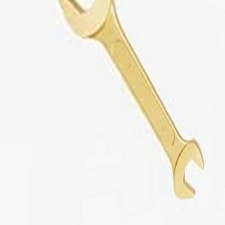Wrench: (54, 1, 225, 206)
